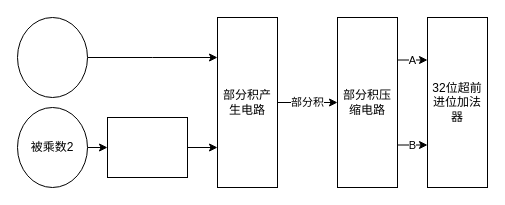
Some shapes in this 505 by 205 pixel diagram are drawn without their labels. The shapes that lost their labels are listed below. From the top down, each one's centre as x and y in pixels, then its label:
(x=52, y=57): 被乘数1
(x=147, y=147): Booth4编码电路
